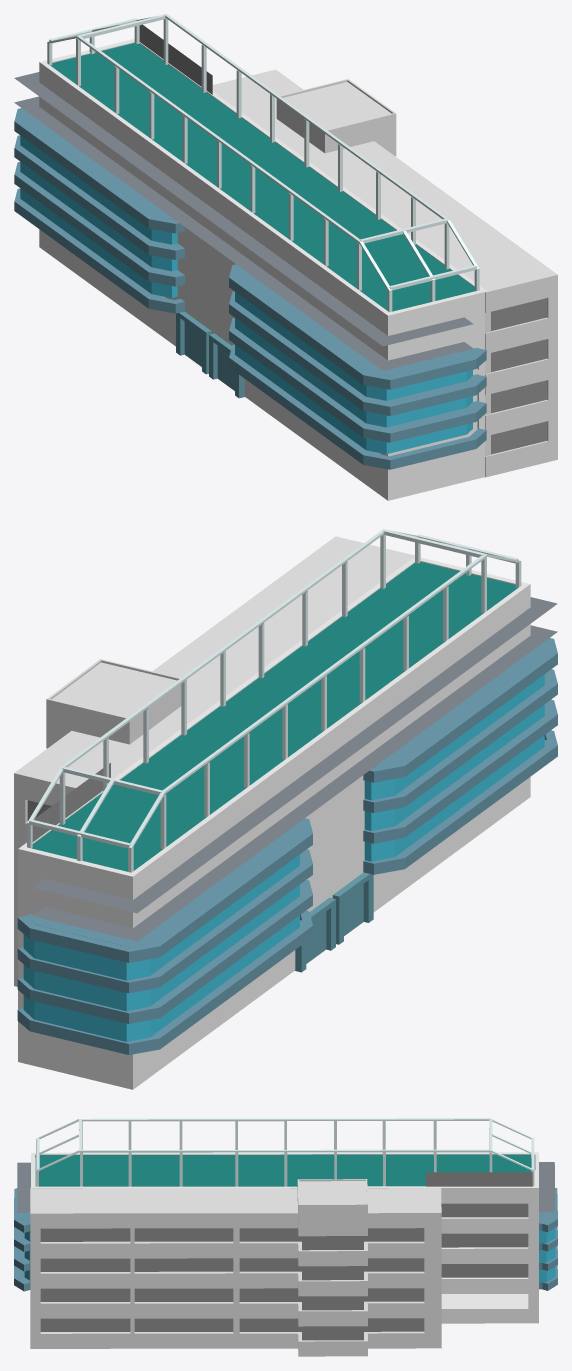
File: Building21st.glb
3 renders of one model, top to bottom at view 1: azimuth 30°, elevation 25°; view 2: azimuth 150°, elevation 25°; view 3: azimuth 270°, elevation 25°, orthographic. The views are drawn at different scales.
Visible parts, largest first — view 1: Cube.192, Cube.189, Cube.193, RooftopField, Cube.196, Cube.191, Cube.195, Cube.197, Cube.194, Cube.190; view 2: Cube.189, Cube.192, RooftopField, Cube.193, Cube.196, Cube.191, Cube.195, Cube.194, Cube.190; view 3: Cube.193, Cube.197, RooftopField, Cube.189, Cube.195, Cube.190, Cube.192, Cube.191, Cube.196.
Part boxes in pixels (box(x1,y1,x2,y2)): Cube.192: box(14, 108, 486, 469); Cube.189: box(39, 39, 487, 500); Cube.193: box(212, 69, 557, 477); RooftopField: box(50, 43, 475, 311); Cube.196: box(20, 135, 472, 454); Cube.191: box(14, 72, 473, 370); Cube.195: box(47, 14, 479, 312); Cube.197: box(491, 298, 547, 454); Cube.194: box(176, 311, 244, 398); Cube.190: box(139, 24, 212, 94); Cube.189: box(18, 557, 530, 1089); Cube.192: box(17, 638, 557, 1054); RooftopField: box(32, 562, 517, 871); Cube.193: box(14, 536, 414, 986); Cube.196: box(23, 674, 544, 1041); Cube.191: box(32, 597, 557, 941); Cube.195: box(27, 529, 521, 872); Cube.194: box(295, 872, 373, 972); Cube.190: box(32, 763, 110, 841); Cube.193: box(30, 1179, 441, 1356); Cube.197: box(40, 1228, 424, 1340); RooftopField: box(35, 1154, 531, 1186); Cube.189: box(31, 1152, 538, 1323); Cube.195: box(36, 1118, 535, 1186); Cube.190: box(426, 1172, 532, 1277); Cube.192: box(14, 1188, 557, 1291); Cube.191: box(17, 1162, 554, 1212); Cube.196: box(24, 1228, 555, 1282).
Size of the model in its own units: 2.66 by 2.75 by 7.9.
